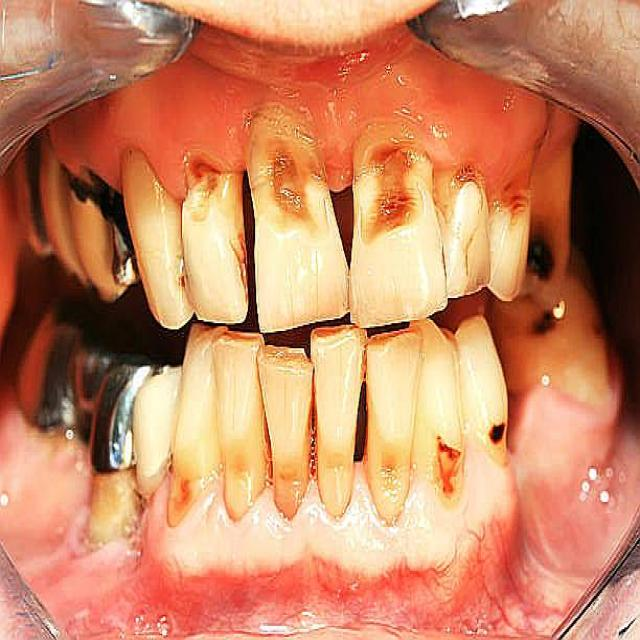caries: (240, 104, 333, 243), (348, 119, 432, 252), (86, 455, 145, 556), (364, 410, 412, 529), (62, 152, 122, 241), (421, 419, 477, 514), (219, 415, 268, 520), (157, 442, 216, 529), (435, 152, 484, 247), (184, 142, 236, 231), (315, 433, 362, 521), (270, 434, 313, 524), (517, 218, 562, 292), (488, 164, 531, 230), (529, 299, 570, 358), (483, 403, 522, 465)
